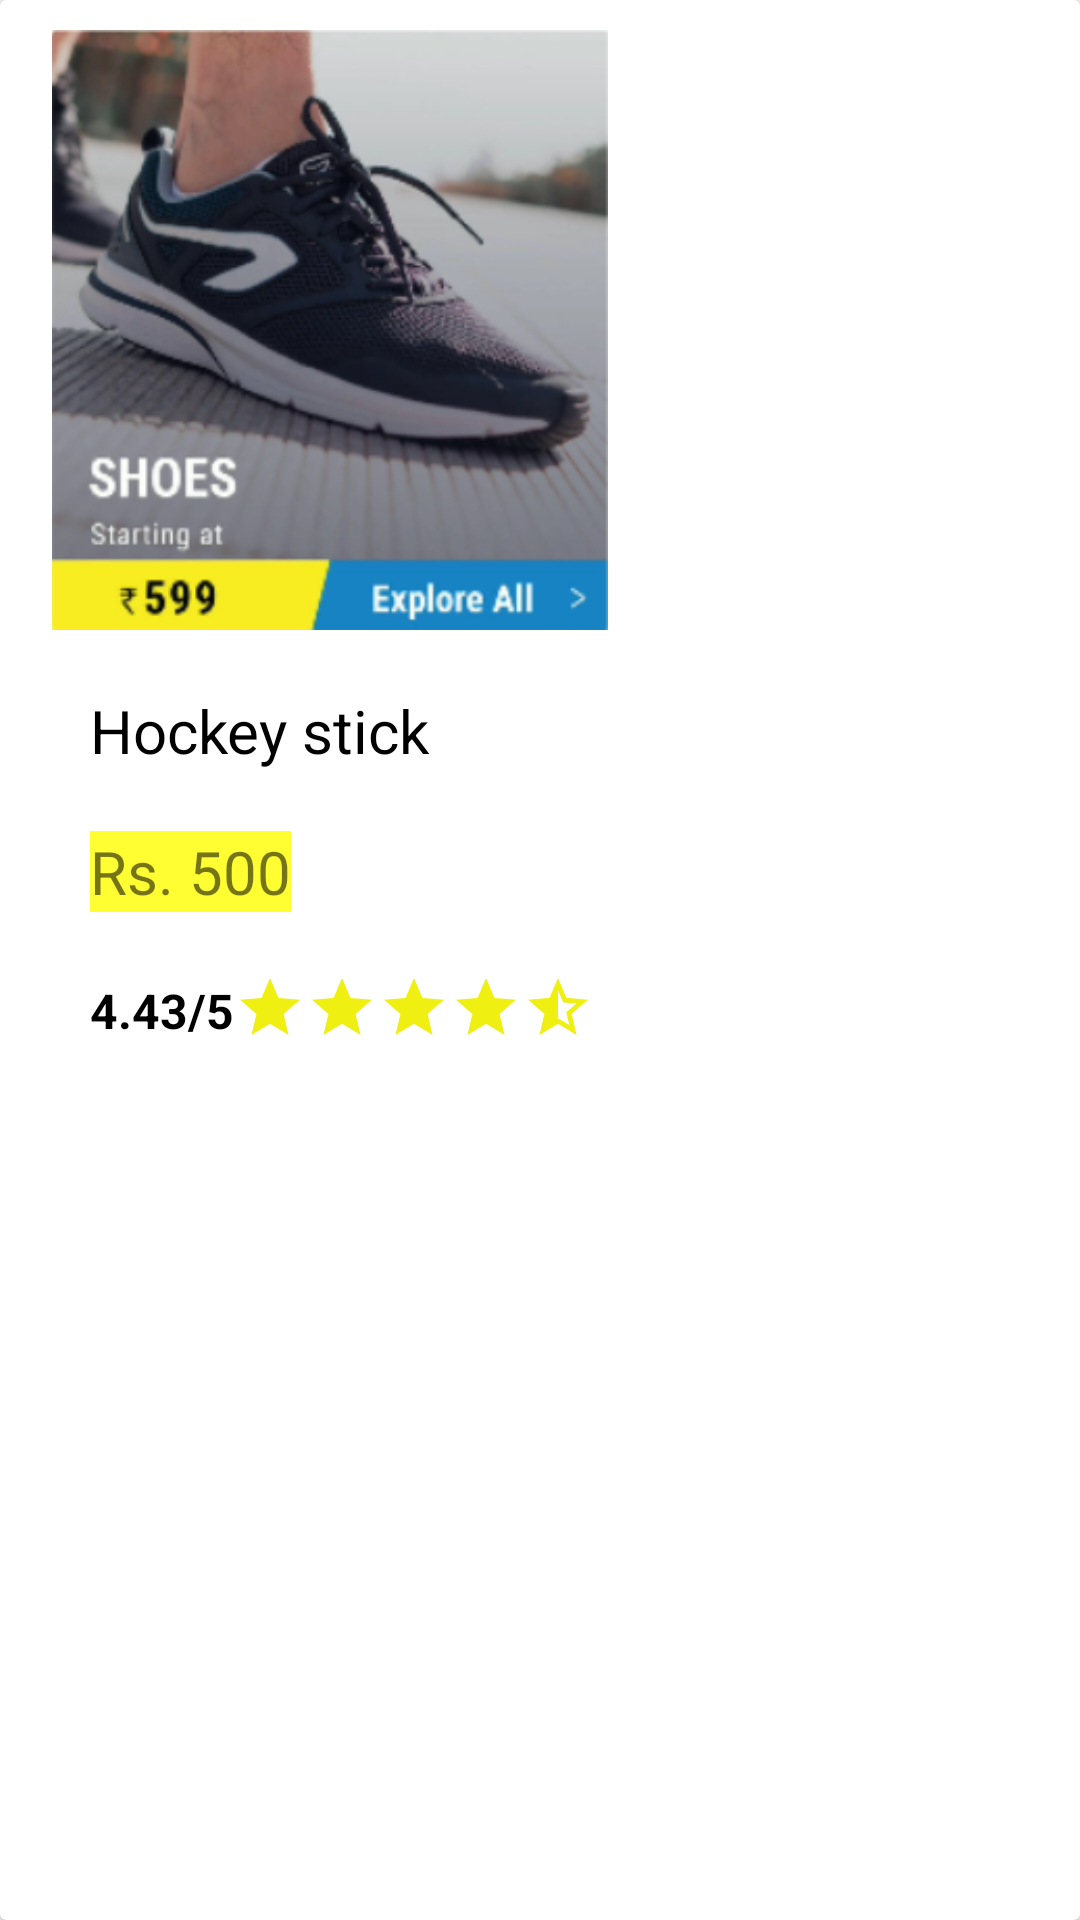

Where to tap for icons on this 1080w x 1920h app screen, as point (x, y):
star: point (270, 1006), point (342, 1006), point (414, 1006), point (486, 1006)
star half: point (558, 1006)
